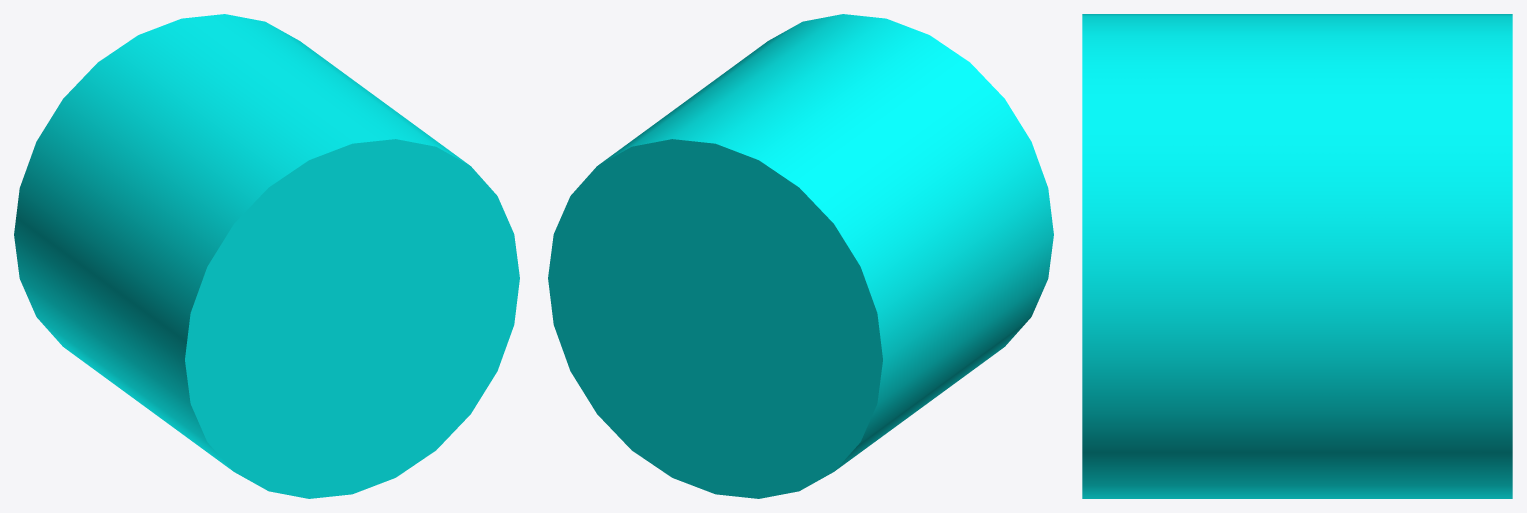
File: glassContainer.fbx
3 views of the same model, side by side, from view 1: azimuth 30°, elevation 25°; view 2: azimuth 150°, elevation 25°; view 3: azimuth 270°, elevation 25° (orthographic). The views are drawn at different scales.
Visible parts, largest first — view 1: Model; view 2: Model; view 3: Model.
Boxes of the visible parts, x1,y1,x2,y2 form: Model: (14,14,519,498); Model: (548,14,1053,498); Model: (1082,14,1512,498).
Bounding box in the file's own units: 3.94 × 3.94 × 3.48.
